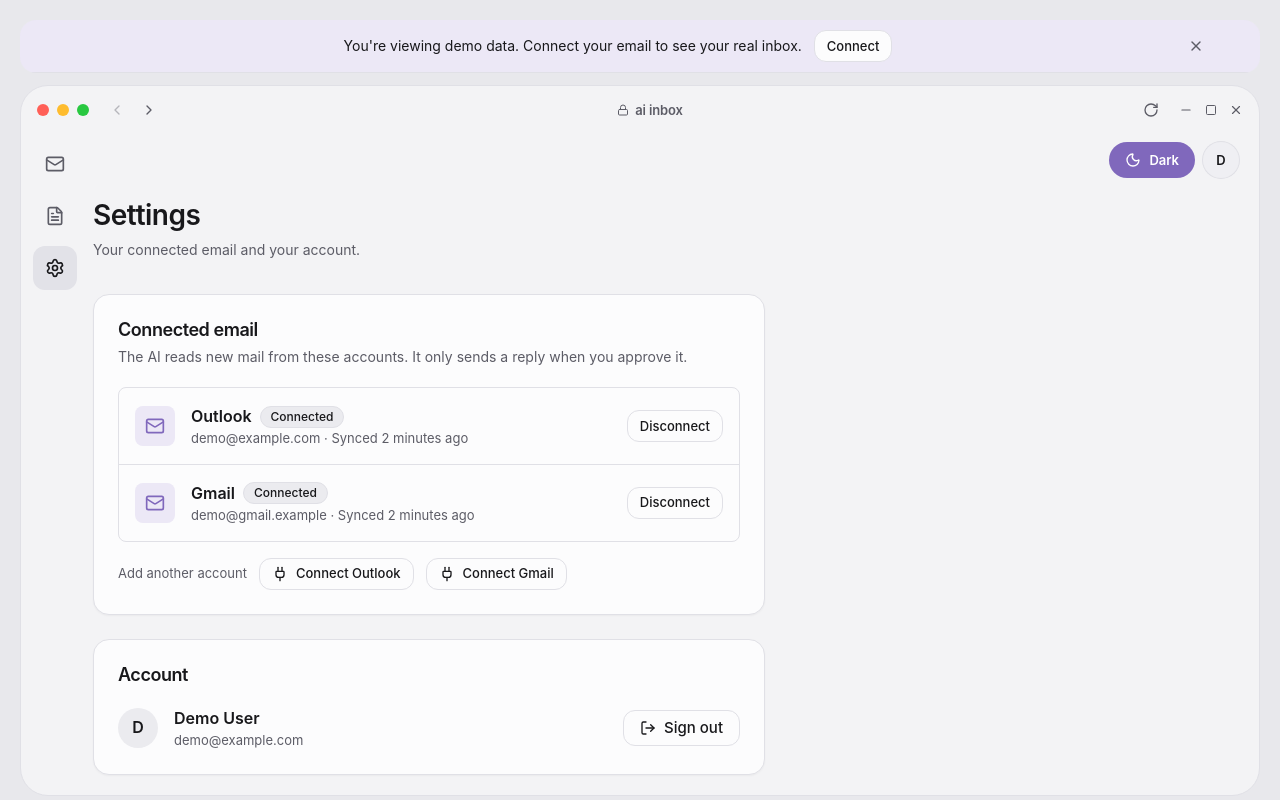
Test: app › signs out to the sign-in page
The width and height of the screenshot is (1280, 800).
What coordinates should you click on to do the following:
click the button "Sign out"
I would click on:
 (682, 728)
Its box is [623,710,740,746].
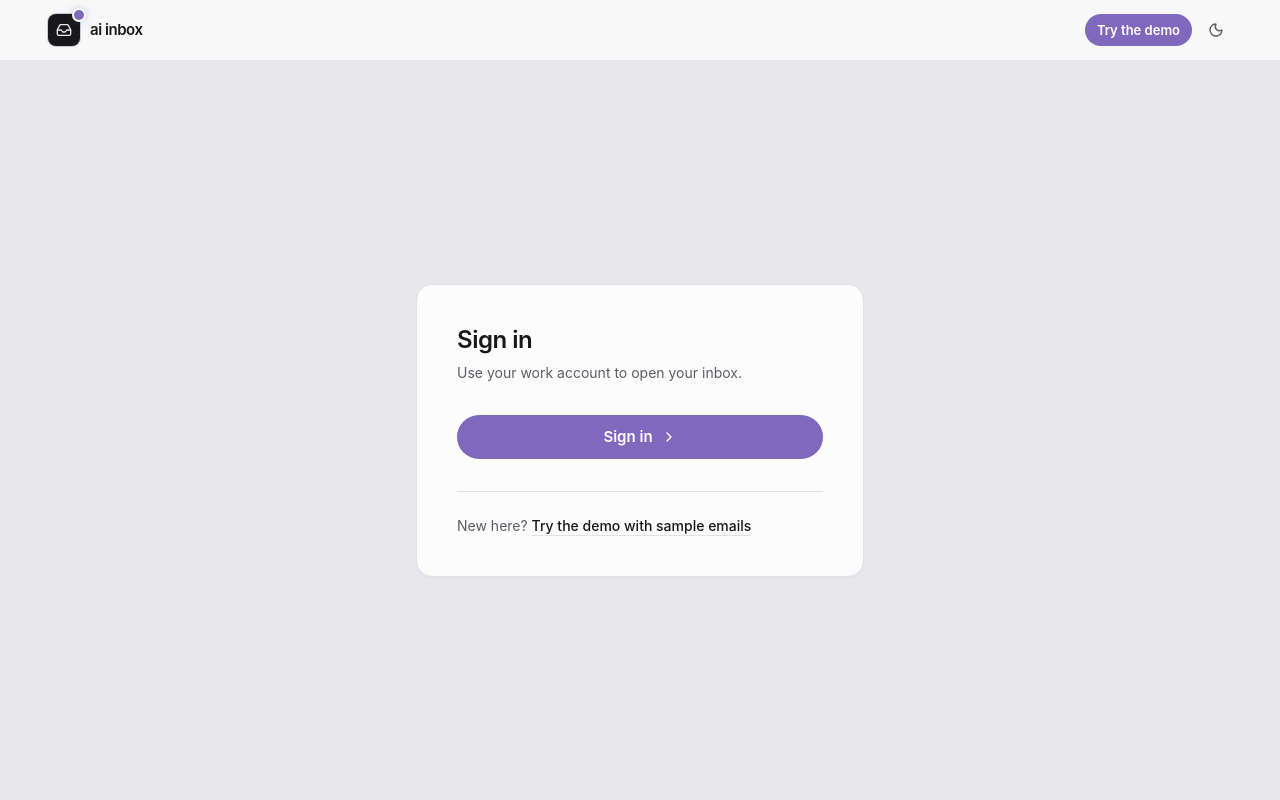
Expected: the heading "Sign in" is shown, [457,325,532,354]
